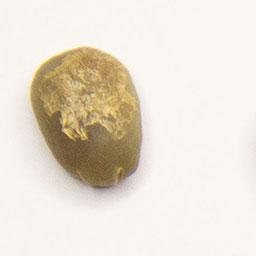premium: (26, 41, 147, 191)
